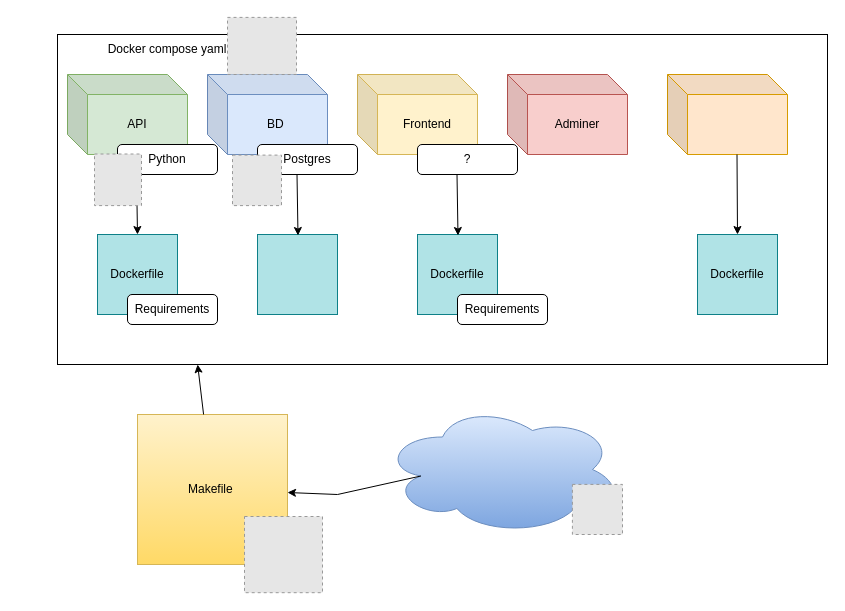
Some shapes in this 845 by 611 pixel diagram are drawn without their labels. Grey dashed boxes stand in for pictures. The box of each missing label's shape, as (x1, y1, x2, y2) in pixels:
Dockerfile. postgres: (256, 234, 338, 314)
Doppler Get Env var: (382, 404, 622, 534)
Timescale: (666, 74, 788, 154)
